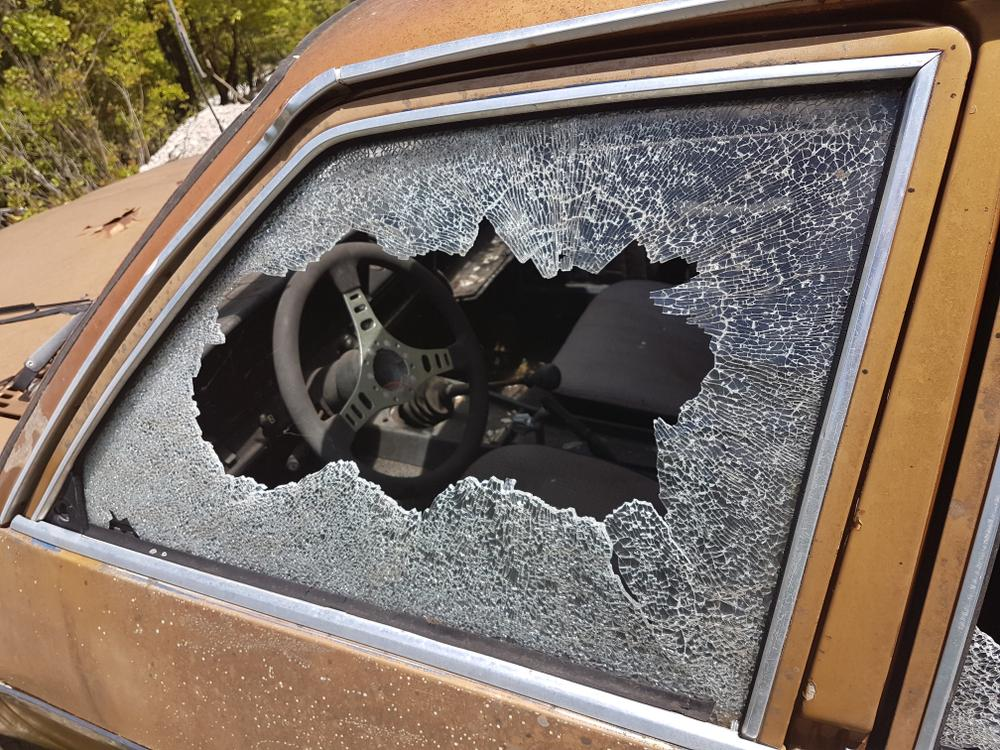glass shatter: (41, 81, 912, 728)
